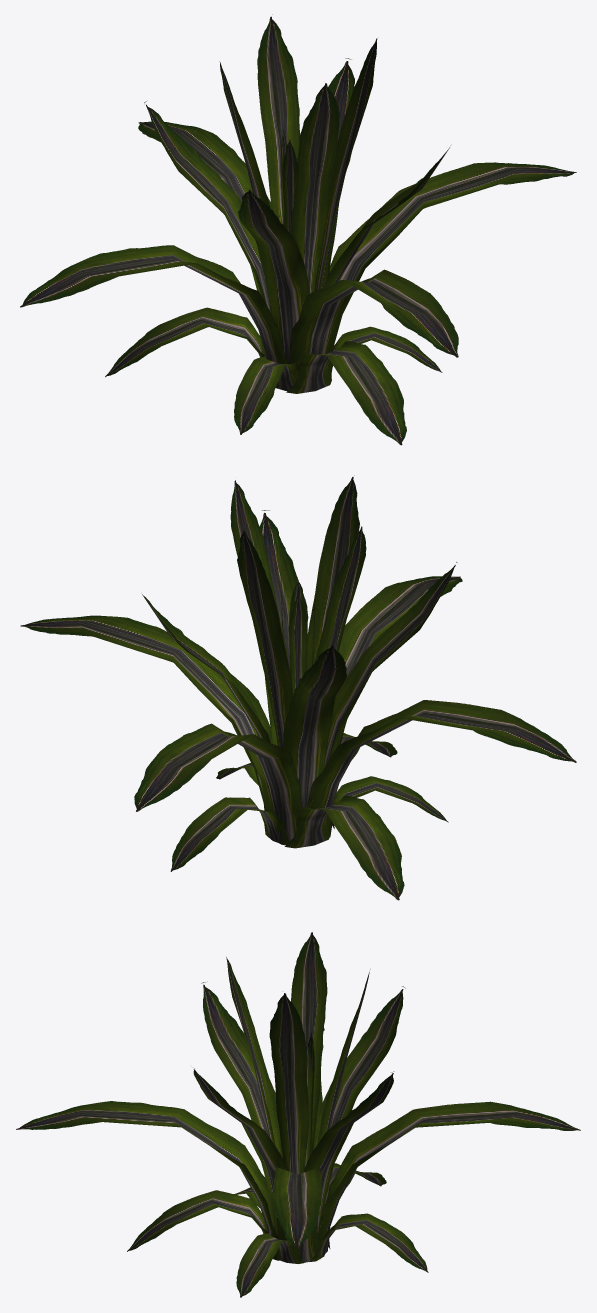
The model's file is tropical_plant.dae.
The picture shows the model from 3 angles, top to bottom: view 1: azimuth 30°, elevation 25°; view 2: azimuth 150°, elevation 25°; view 3: azimuth 270°, elevation 25°; orthographic projection. The views are drawn at different scales.
Parts seen in each view (by area): view 1: tropical_plant; view 2: tropical_plant; view 3: tropical_plant.
Part boxes in pixels (left/top/right/bottom): tropical_plant: left=20, top=14, right=576, bottom=445; tropical_plant: left=20, top=475, right=576, bottom=900; tropical_plant: left=16, top=932, right=580, bottom=1297.
Bounding box in the file's own units: 2.07 × 2.07 × 1.17.
1 material, 1 textured.
